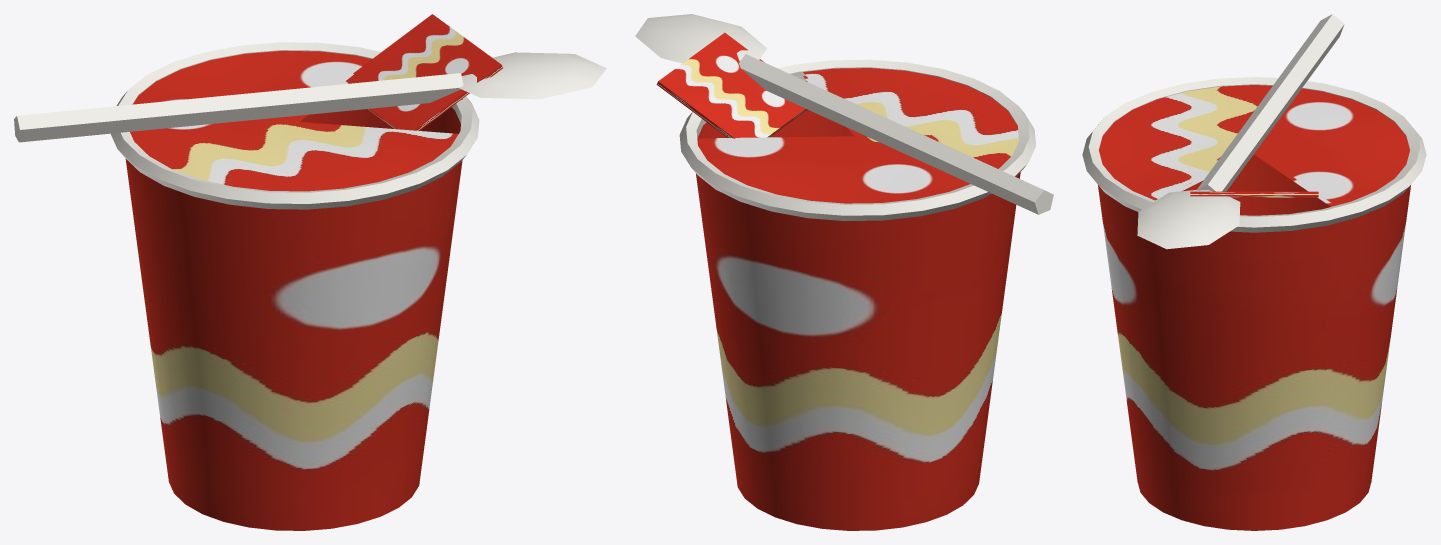
The model's file is ration_cup_noodle_instant.glb.
3 views of the same model, side by side, from view 1: azimuth 30°, elevation 25°; view 2: azimuth 150°, elevation 25°; view 3: azimuth 270°, elevation 25° (orthographic). The views are drawn at different scales.
Parts seen in each view (by area): view 1: ration_cup_noodle_instant; view 2: ration_cup_noodle_instant; view 3: ration_cup_noodle_instant.
Boxes of the visible parts, x1,y1,x2,y2 form: ration_cup_noodle_instant: (14,14,606,530); ration_cup_noodle_instant: (635,14,1053,530); ration_cup_noodle_instant: (1082,14,1426,530).
Size of the model in its own units: 0.1431 by 0.1076 by 0.0912.
Materials: 2 (1 with a texture image).
